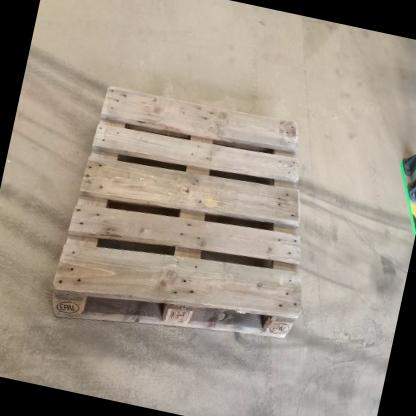BoxFace: (36, 73, 305, 350)
